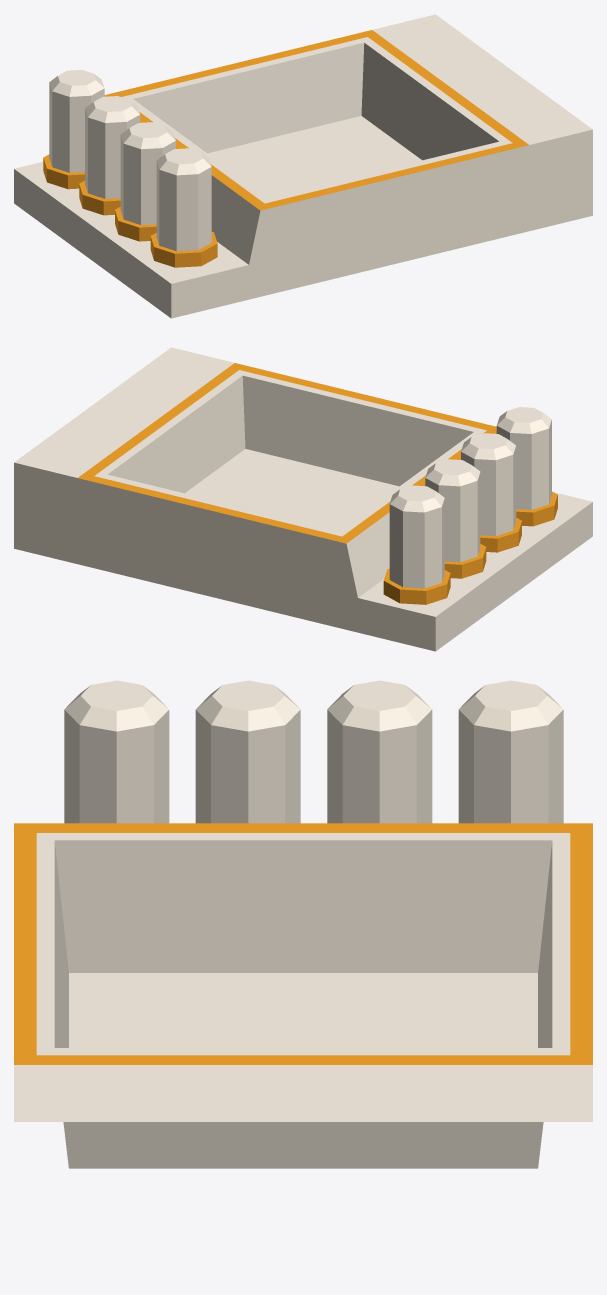
File: DimondStorage.fbx
3 renders of one model, top to bottom at view 1: azimuth 30°, elevation 25°; view 2: azimuth 150°, elevation 25°; view 3: azimuth 270°, elevation 25°, orthographic. The views are drawn at different scales.
Parts seen in each view (by area): view 1: DiamondStorage; view 2: DiamondStorage; view 3: DiamondStorage.
Part boxes in pixels (x1,y1,x2,y2): DiamondStorage: [14, 14, 592, 318]; DiamondStorage: [14, 347, 592, 651]; DiamondStorage: [14, 680, 592, 1168].
Bounding box in the file's own units: 184 × 55.06 × 119.
